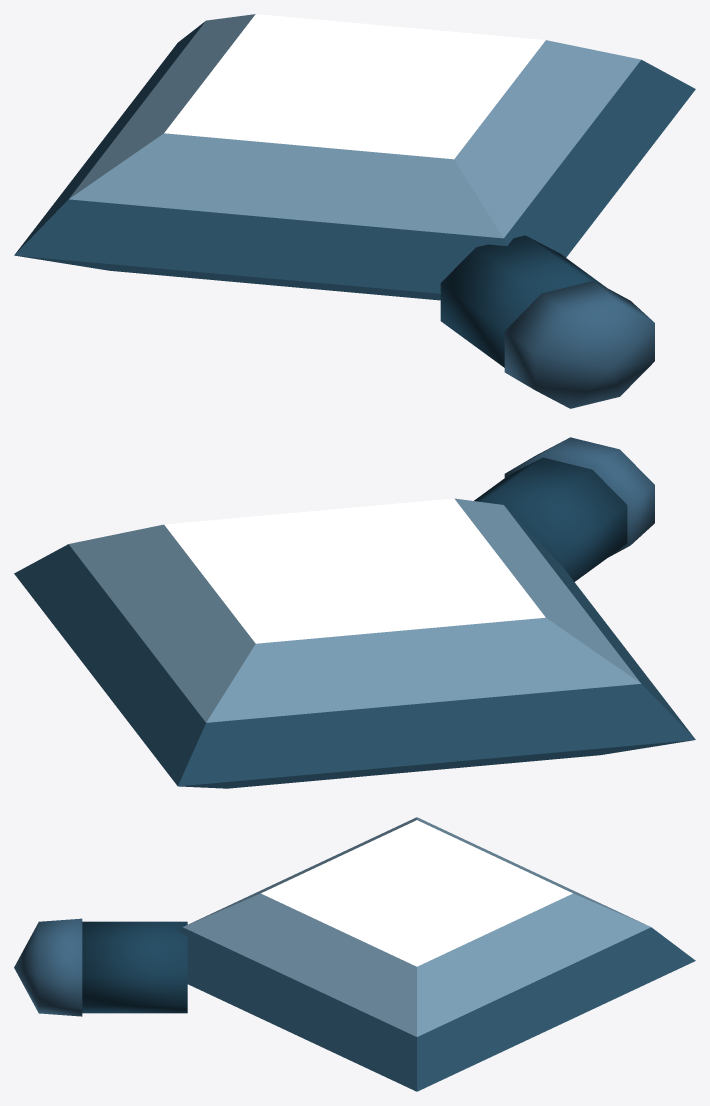
The model's file is newshv-19.glb.
3 renders of one model, top to bottom at view 1: azimuth 30°, elevation 25°; view 2: azimuth 150°, elevation 25°; view 3: azimuth 270°, elevation 25°, orthographic. The views are drawn at different scales.
Parts seen in each view (by area): view 1: newshv-19, newshv-19_stalk; view 2: newshv-19, newshv-19_stalk; view 3: newshv-19, newshv-19_stalk.
Part boxes in pixels (x1,y1,x2,y2): newshv-19: (14,14,695,300); newshv-19_stalk: (440,235,654,408); newshv-19: (14,498,695,788); newshv-19_stalk: (474,437,654,581); newshv-19: (177,817,695,1091); newshv-19_stalk: (14,918,187,1016).
Size of the model in its own units: 0.8333 by 0.235 by 0.9167.
